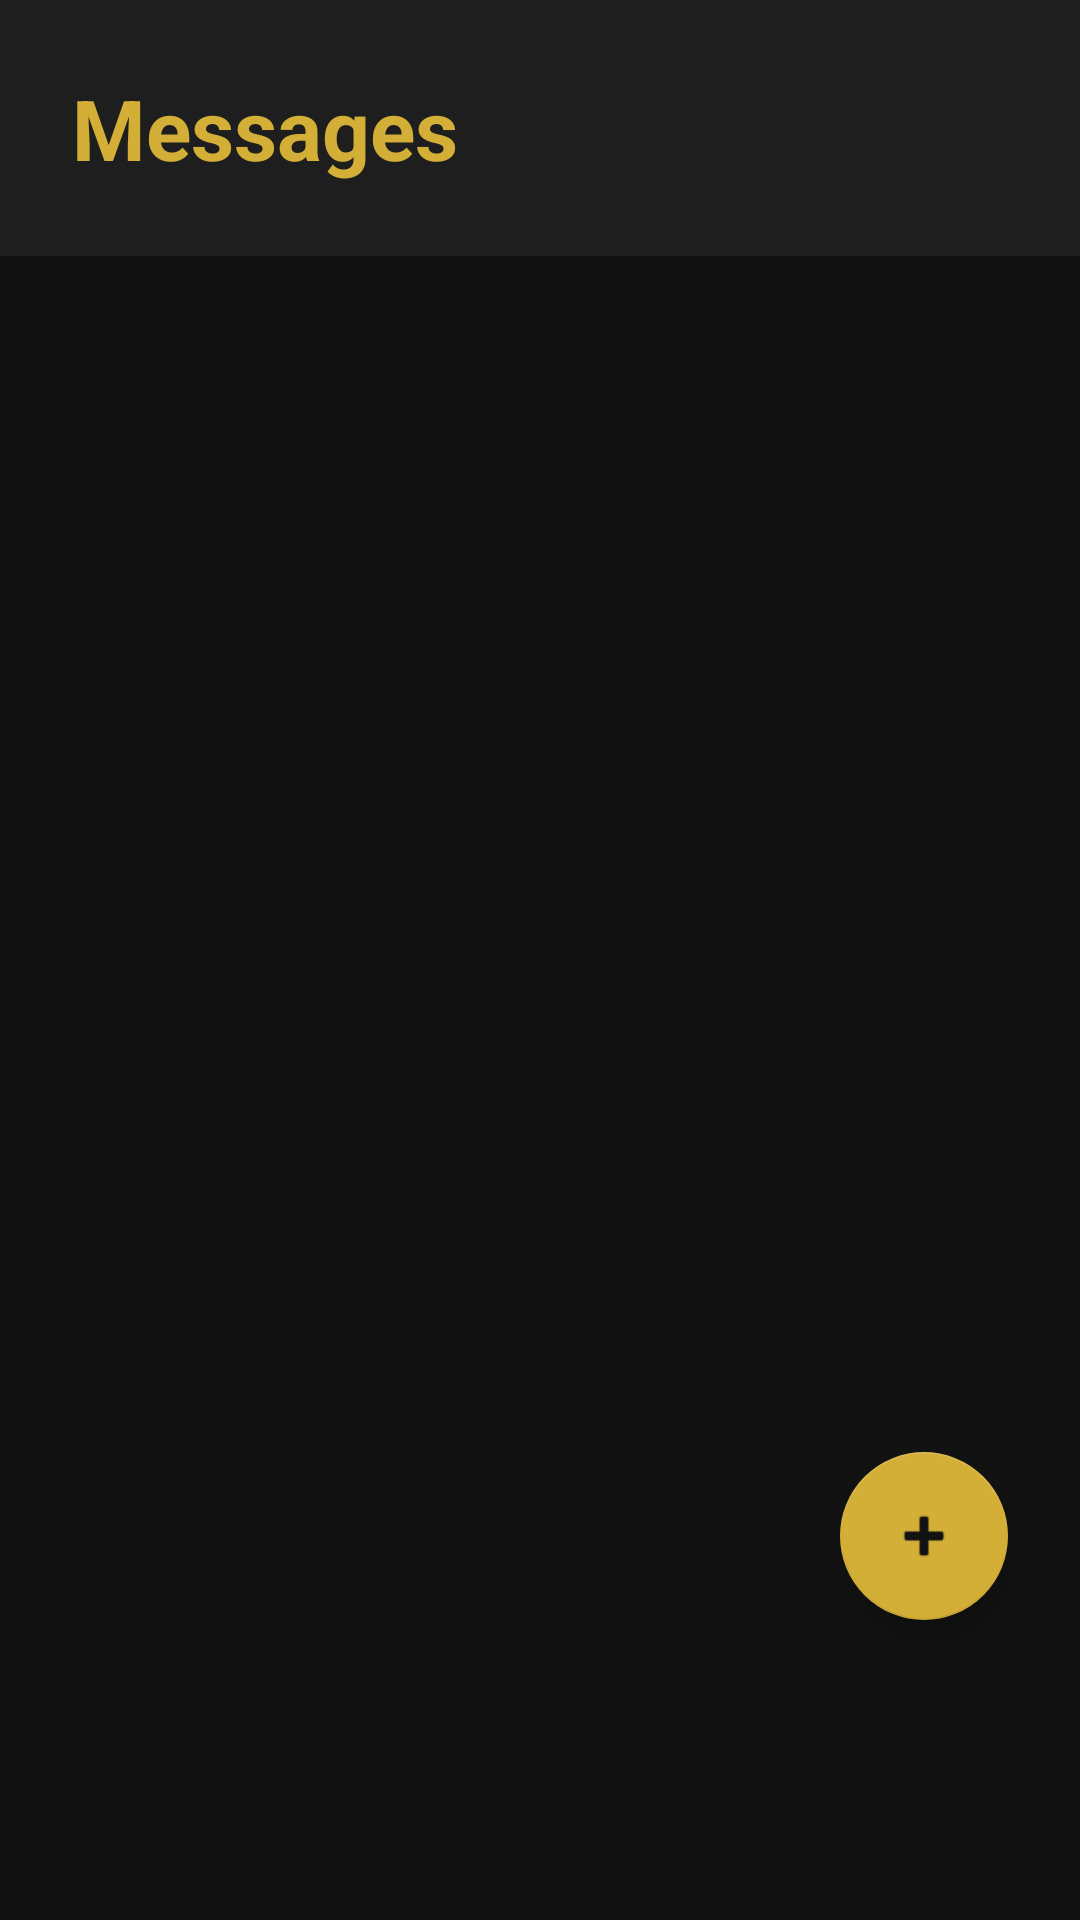

Point at icon controls on the screen. Image size 1080px×1920px, points as [x,y].
add: [924,1536]
